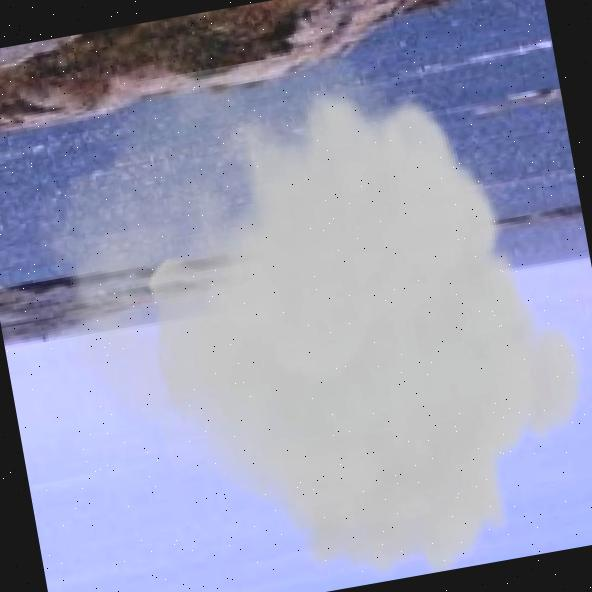smoke: (0, 13, 592, 592)
